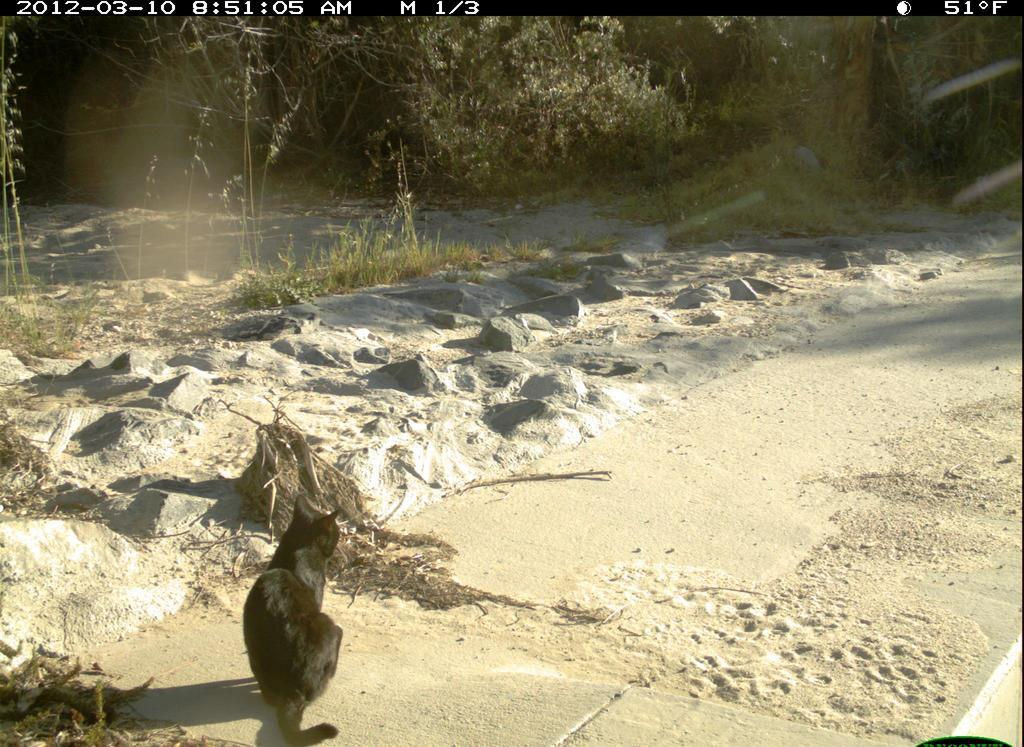cat: (240, 492, 360, 747)
